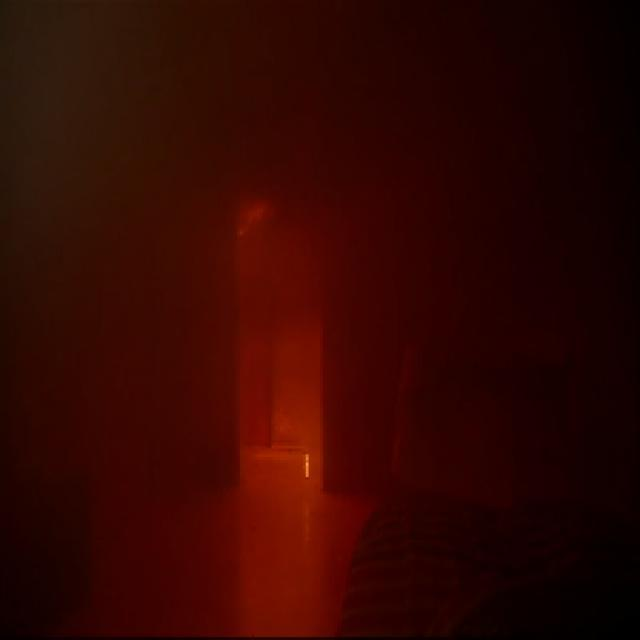Fire: (228, 202, 272, 238)
Smoke: (114, 31, 506, 198), (154, 246, 497, 360)
